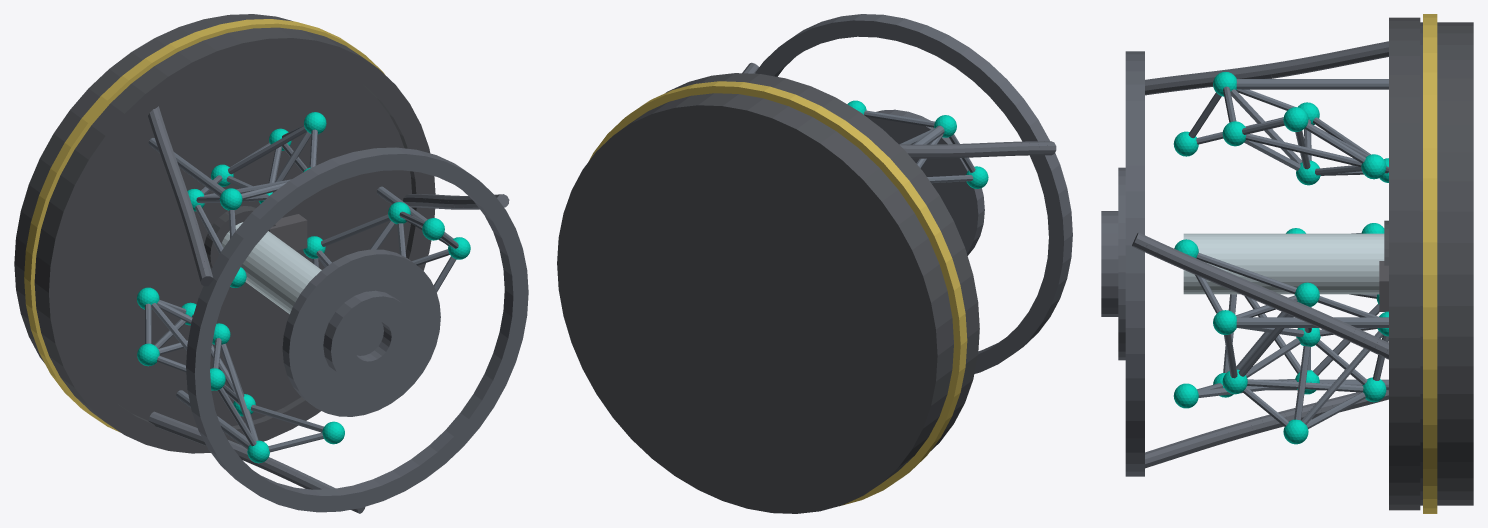
Rendered from qora_device.glb.
3 renders of one model, left to right at view 1: azimuth 30°, elevation 25°; view 2: azimuth 150°, elevation 25°; view 3: azimuth 270°, elevation 25°, orthographic. The views are drawn at different scales.
Visible parts, largest first — view 1: Optical_Deck, Outer_Shroud, Base_Enclosure, FMO_Resonance_Struts, Brass_Touch_Ring, FMO_Chromophore_Nodes, Quartz_Bio_Cell, AS7341_Spectrometer; view 2: Base_Enclosure, Outer_Shroud, Brass_Touch_Ring, FMO_Resonance_Struts, FMO_Chromophore_Nodes; view 3: Base_Enclosure, Outer_Shroud, FMO_Resonance_Struts, Quartz_Bio_Cell, FMO_Chromophore_Nodes, Brass_Touch_Ring, AS7341_Spectrometer.
Boxes of the visible parts, x1,y1,x2,y2 form: Optical_Deck: (68,58,411,427); Outer_Shroud: (148,106,528,513); Base_Enclosure: (14,14,435,453); FMO_Resonance_Struts: (145,125,458,452); Brass_Touch_Ring: (24,19,384,432); FMO_Chromophore_Nodes: (136,112,470,463); Quartz_Bio_Cell: (221,222,321,314); AS7341_Spectrometer: (268,214,307,250); Base_Enclosure: (557,73,979,513); Outer_Shroud: (742,14,1072,373); Brass_Touch_Ring: (588,81,967,506); FMO_Resonance_Struts: (864,110,975,183); FMO_Chromophore_Nodes: (847,100,988,188); Base_Enclosure: (1389,17,1473,510); Outer_Shroud: (1101,41,1388,476); FMO_Resonance_Struts: (1188,79,1388,428); Quartz_Bio_Cell: (1183,233,1384,294); FMO_Chromophore_Nodes: (1173,71,1388,444); Brass_Touch_Ring: (1423,14,1437,513); AS7341_Spectrometer: (1379,261,1388,311).
Size of the model in its own units: 207 by 207 by 154.
